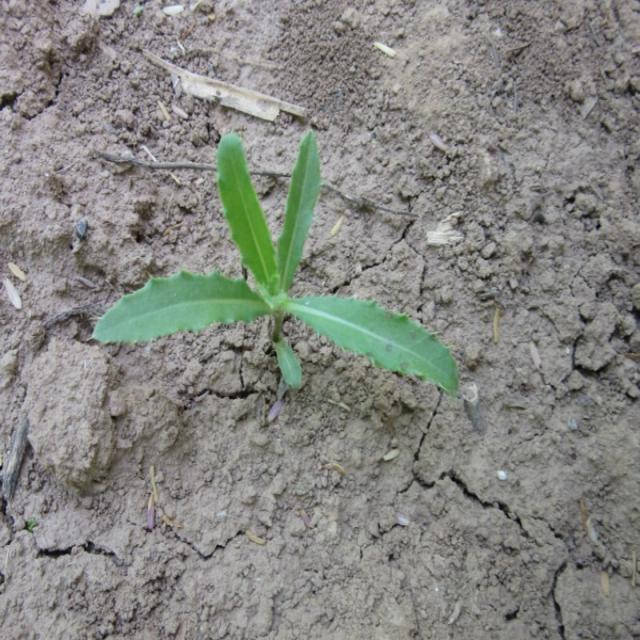field_thistle: (116, 123, 454, 433)
